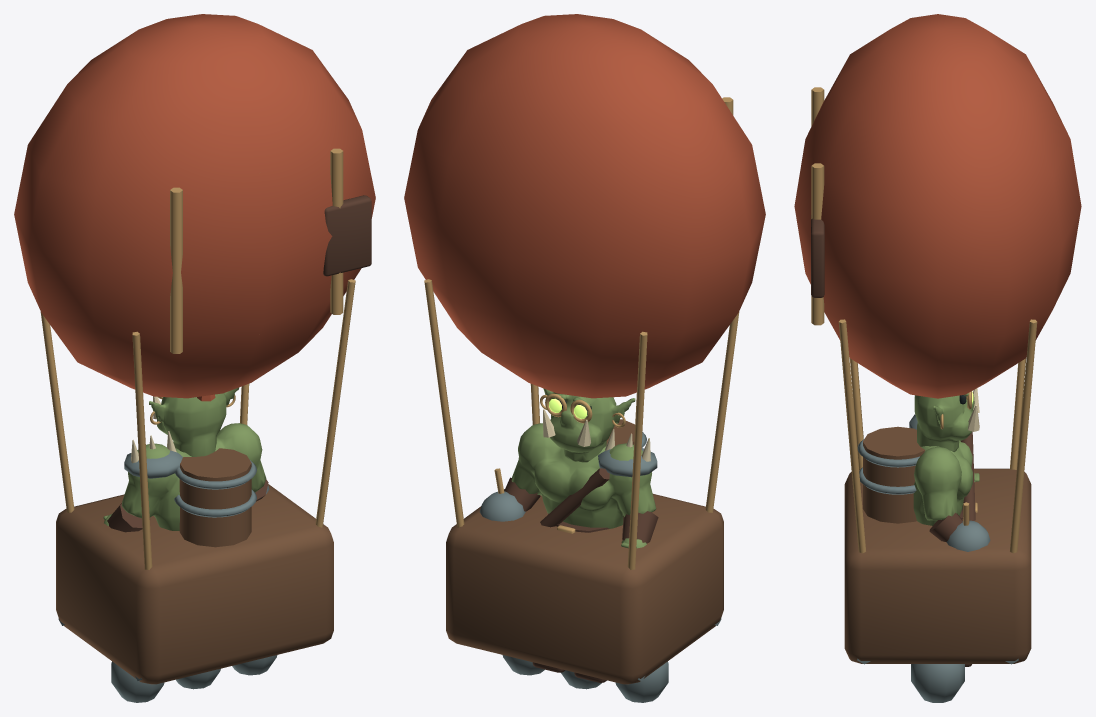
File: host_05-balloon.glb
The picture shows the model from 3 angles, left to right: view 1: azimuth 30°, elevation 25°; view 2: azimuth 150°, elevation 25°; view 3: azimuth 270°, elevation 25°; orthographic projection. The views are drawn at different scales.
Visible parts, largest first — view 1: mesh_Cloth.050, mesh_Wood.050, mesh_Copper.050, mesh_Skin.002, mesh_Iron.002, mesh_Leather.002; view 2: mesh_Cloth.050, mesh_Wood.050, mesh_Skin.002, mesh_Copper.050, mesh_Iron.002, mesh_Leather.002, mesh_Bone.050; view 3: mesh_Cloth.050, mesh_Wood.050, mesh_Copper.050, mesh_Skin.002, mesh_Iron.002, mesh_Leather.002.
Part boxes in pixels (x1,y1,x2,y2): mesh_Cloth.050: (14,14,375,401); mesh_Wood.050: (56,448,333,684); mesh_Copper.050: (40,148,355,569); mesh_Skin.002: (103,387,266,530); mesh_Iron.002: (58,447,277,702); mesh_Leather.002: (107,195,371,532); mesh_Cloth.050: (404,14,765,398); mesh_Wood.050: (446,419,723,684); mesh_Skin.002: (511,388,656,548); mesh_Copper.050: (424,97,739,569); mesh_Iron.002: (479,432,721,702); mesh_Leather.002: (504,468,658,543); mesh_Bone.050: (543,409,650,461); mesh_Cloth.050: (794,14,1081,398); mesh_Wood.050: (844,426,1031,663); mesh_Copper.050: (811,87,1037,553); mesh_Skin.002: (913,393,979,525); mesh_Iron.002: (857,414,1018,702); mesh_Leather.002: (811,215,975,542).
Bounding box in the file's own units: 1.04 × 1.98 × 0.7994.
